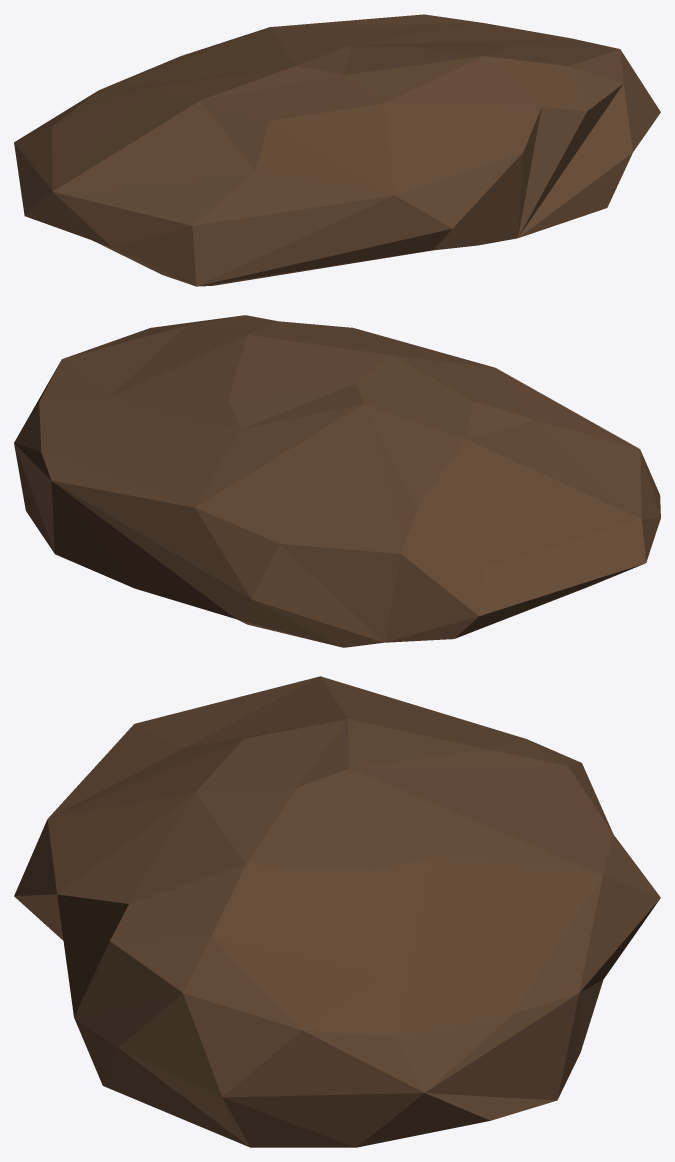
File: rock1.fbx
The picture shows the model from 3 angles, top to bottom: view 1: azimuth 30°, elevation 25°; view 2: azimuth 150°, elevation 25°; view 3: azimuth 270°, elevation 25°; orthographic projection. The views are drawn at different scales.
Parts seen in each view (by area): view 1: Cube; view 2: Cube; view 3: Cube.
Boxes of the visible parts, x1,y1,x2,y2 form: Cube: [14, 14, 660, 286]; Cube: [14, 315, 660, 647]; Cube: [14, 676, 660, 1147].
Bounding box in the file's own units: 3.2 × 0.9021 × 2.27.
